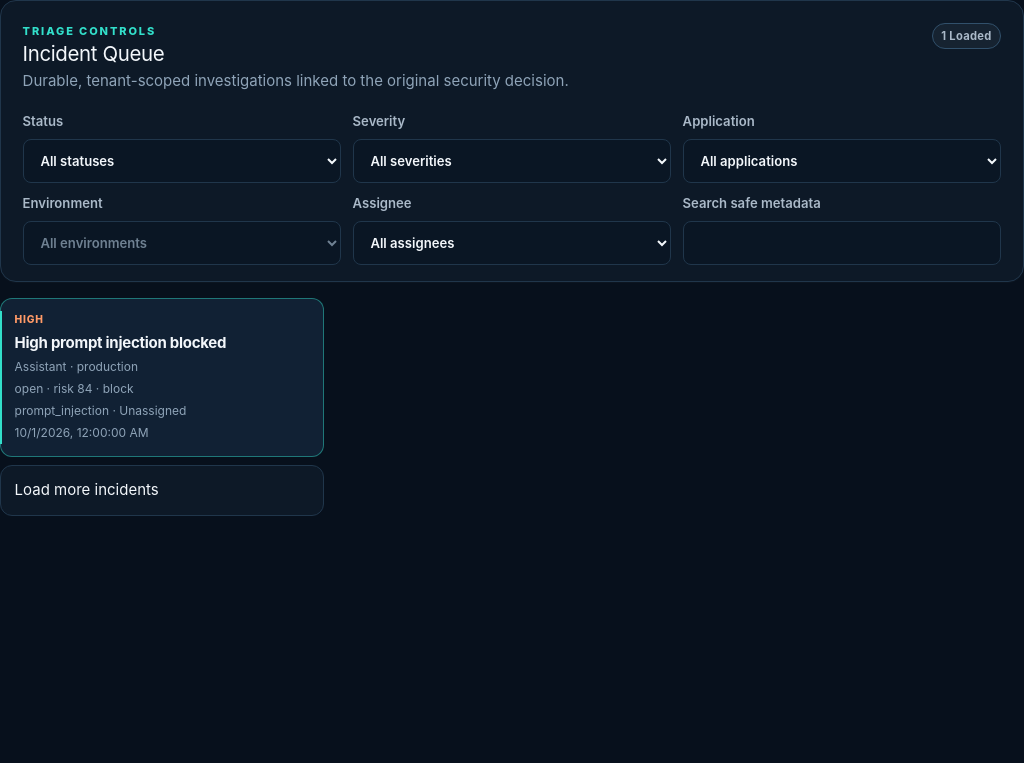
Test case: incident console › loads the next cursor page and keeps viewers read-only
expect the text "High prompt injection blocked" is shown: met, box [15,333,226,352]
Click the button "Load more incidents".
click(87, 490)  # box [0,465,324,516]
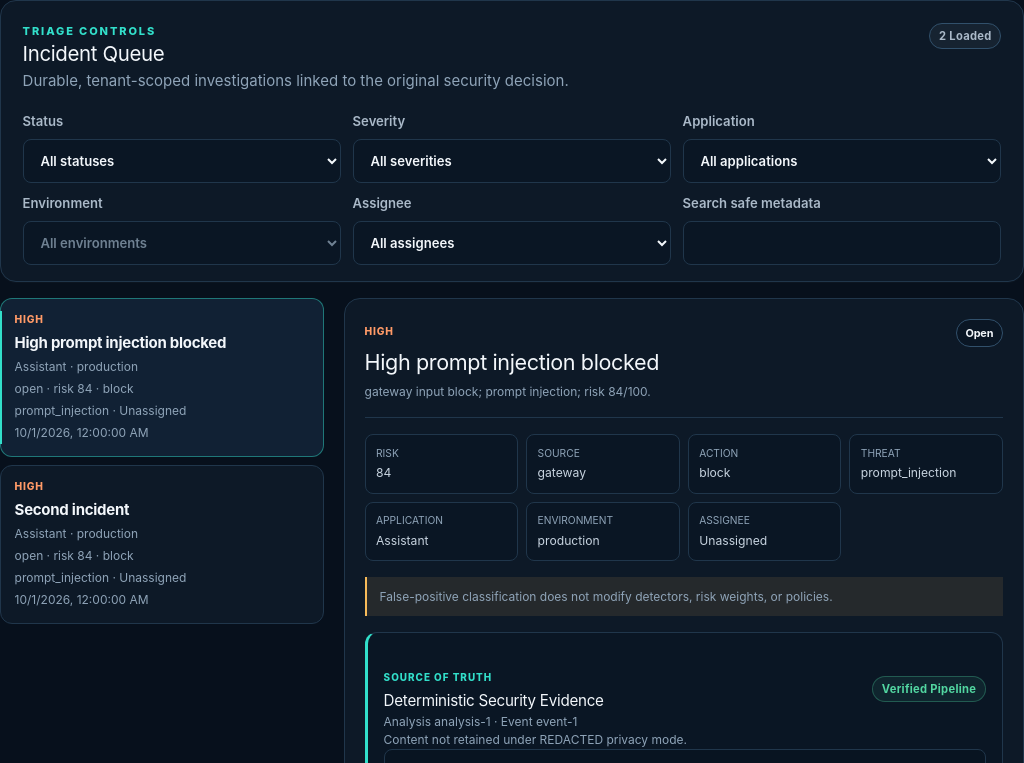
expect the text "Second incident" is shown: met, box [15,500,129,519]
